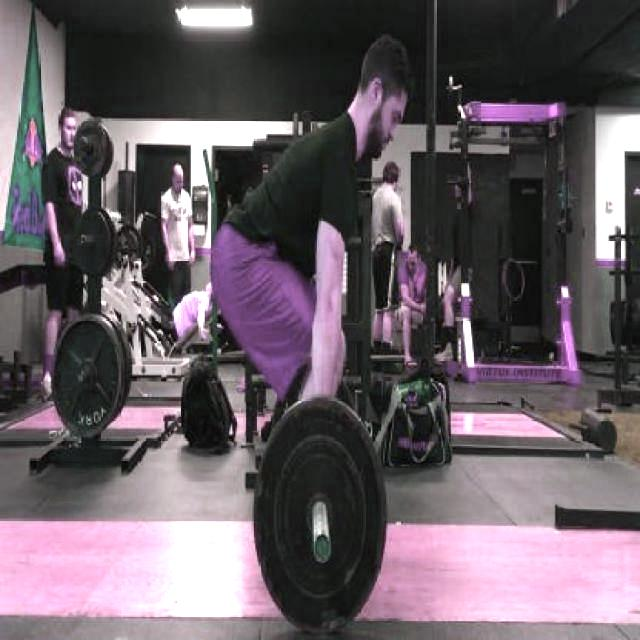barbell: (247, 389, 397, 640), (48, 306, 131, 445)
